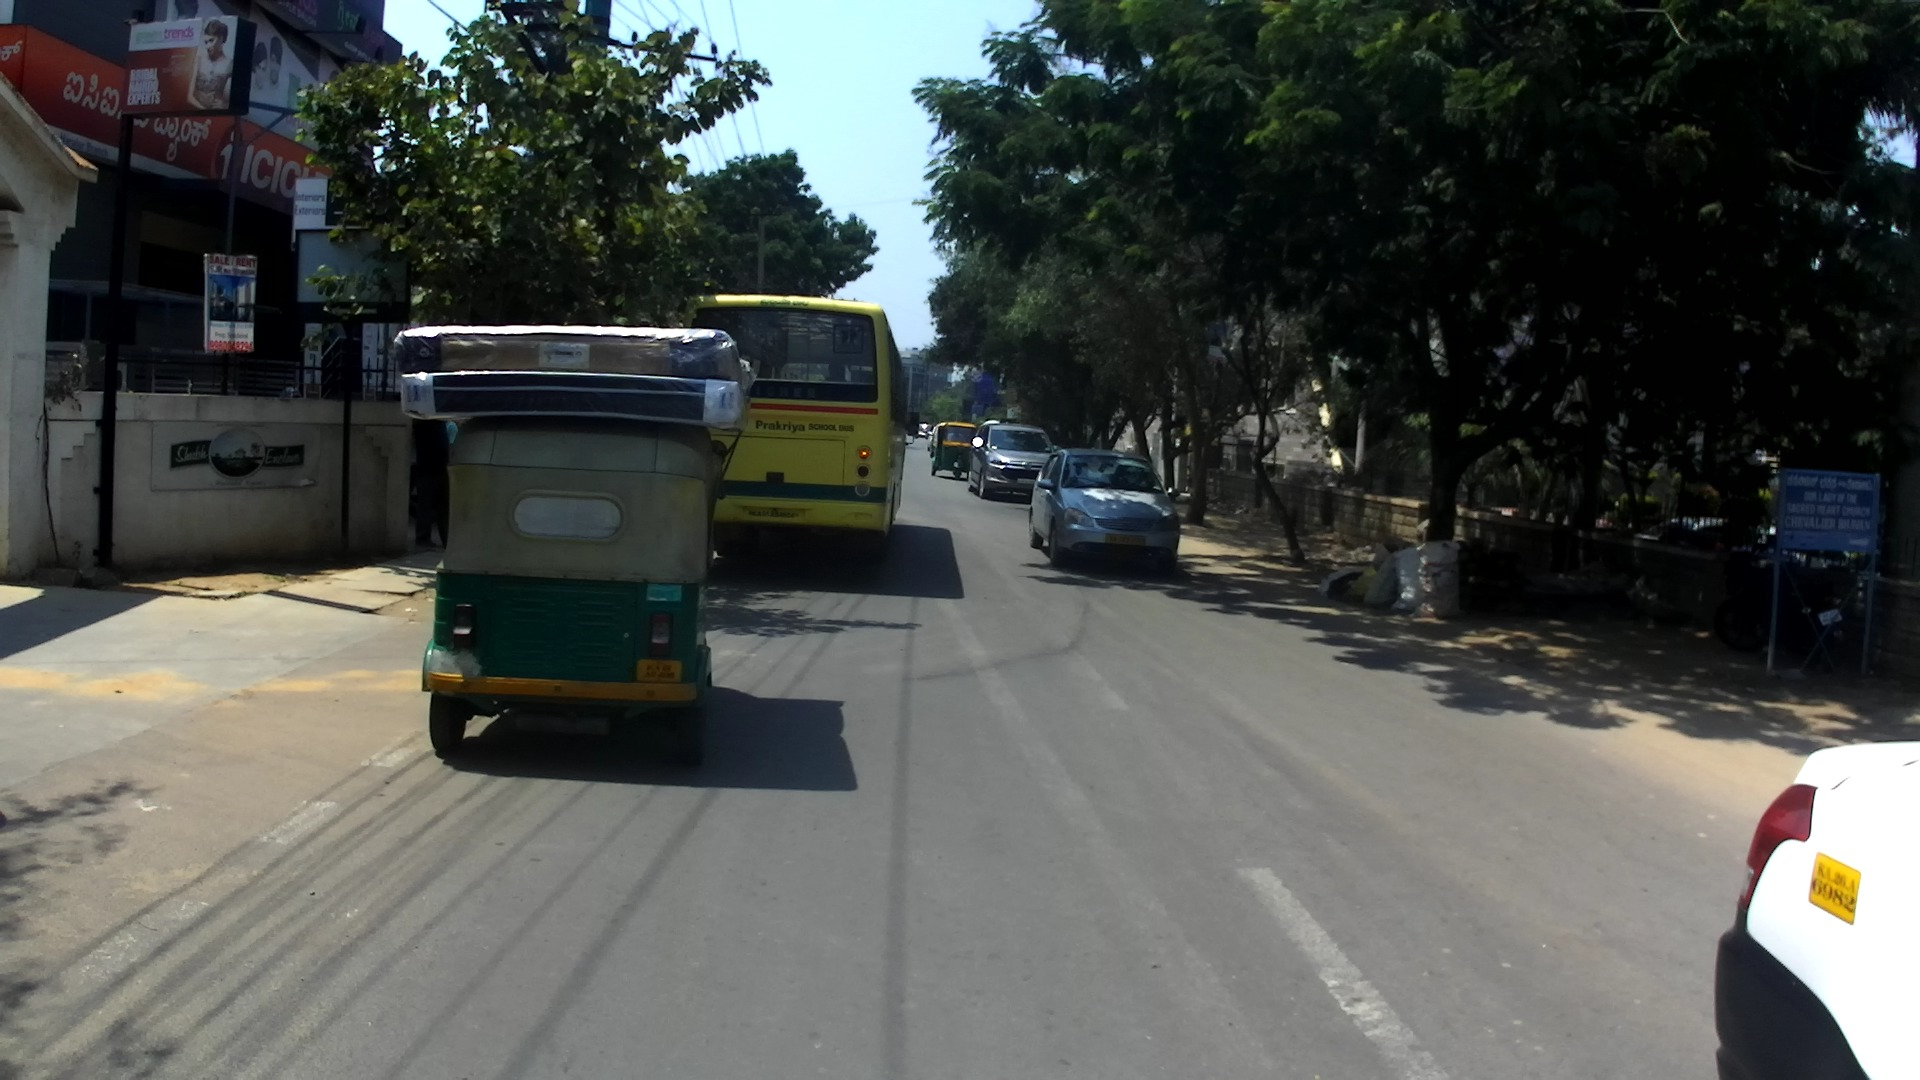autorickshaw: (423, 412, 730, 763), (933, 422, 978, 477)
bus: (683, 294, 920, 564)
car: (1710, 739, 1918, 1080), (1028, 449, 1181, 572), (968, 418, 1062, 500), (926, 426, 939, 453), (918, 422, 930, 438)
motorcycle: (1709, 538, 1852, 676)
person: (408, 414, 454, 550), (434, 414, 463, 513)
